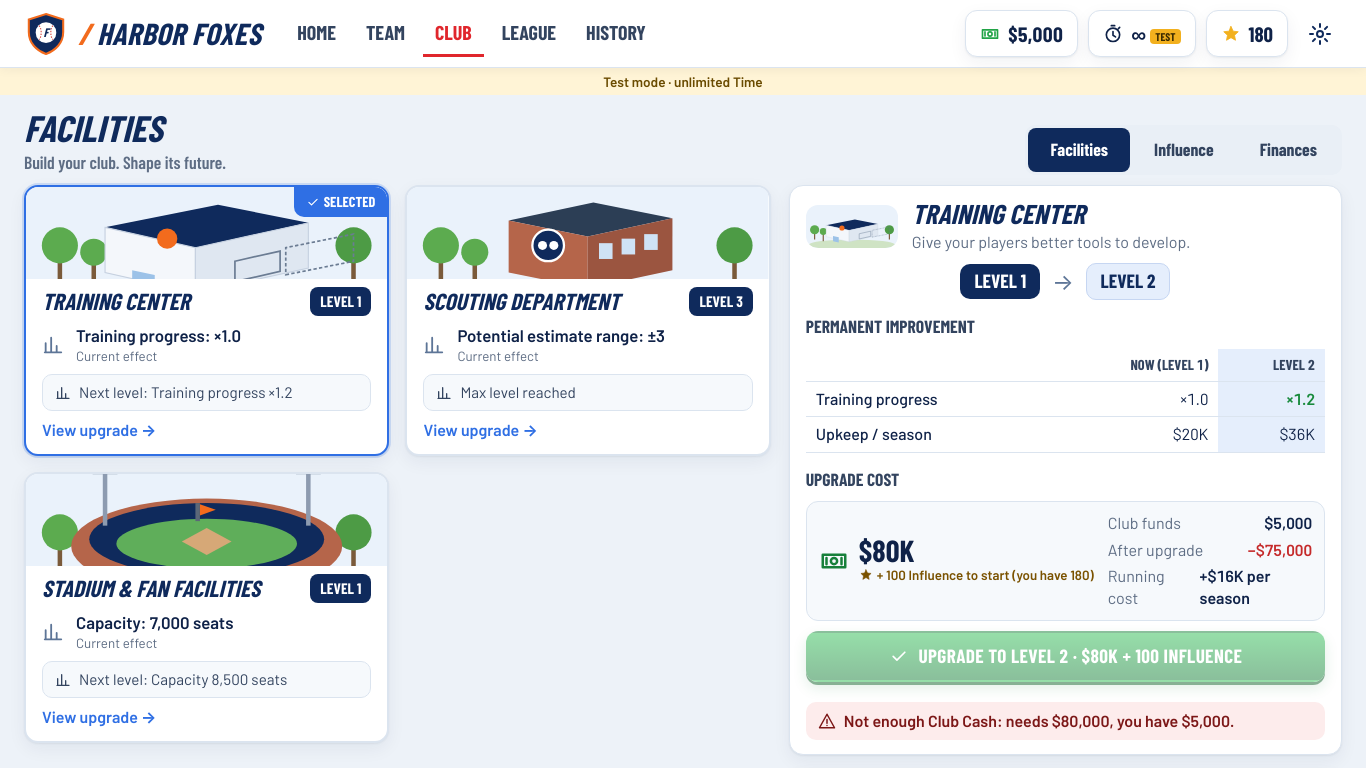
Test case: Club → Facilities › explains missing money and max level instead of offering the button
Check: the button "Upgrade to level 2 · $80K + 100 Influence" is disabled, box [806,631,1325,682]
Check: the text "Not enough Club Cash: needs $80,000, you have $5,000." is shown, box [806,702,1325,740]
What coordinates should you click on to do the following:
click the button with aria-label "Scouting Department, level 3"
I would click on:
 (588, 233)
Its box is [405,185,771,456].
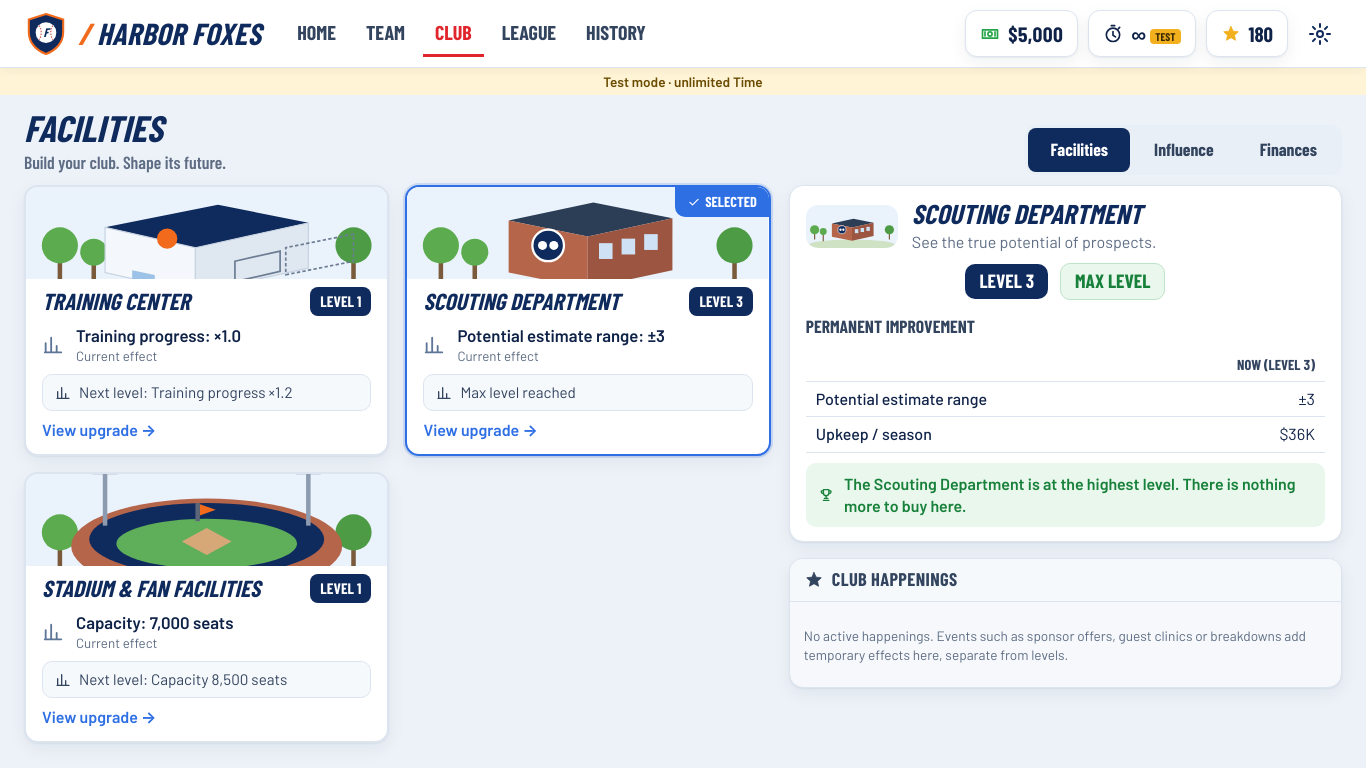
Check: the text "highest level" is shown, box [844,474,1296,515]
